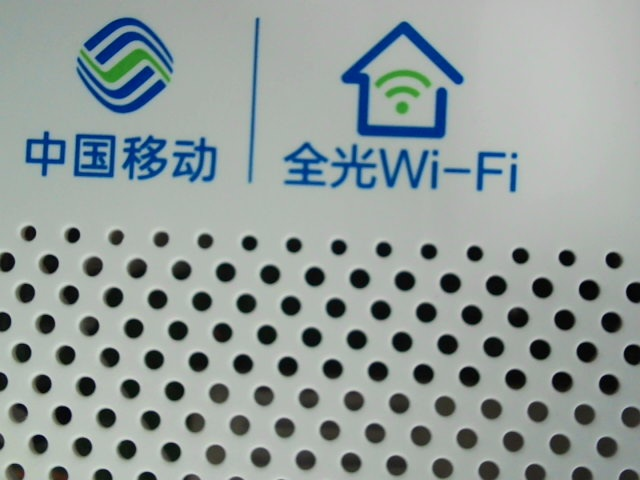BJ_QuanGuangMobile: (19, 16, 529, 195)
